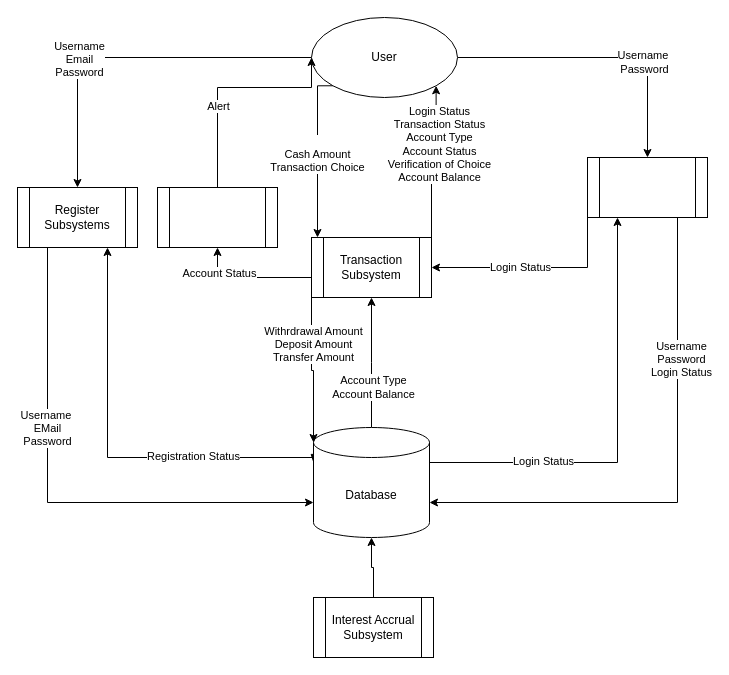
The diagram is 729 pixels wide and 675 high, and some of its shapes have lost their labels. Here are the shapes that lost their labels. From the top down, the centre of each, then its label:
point 647,187: Login Subsystems
point 217,217: Alerts Subsystem
